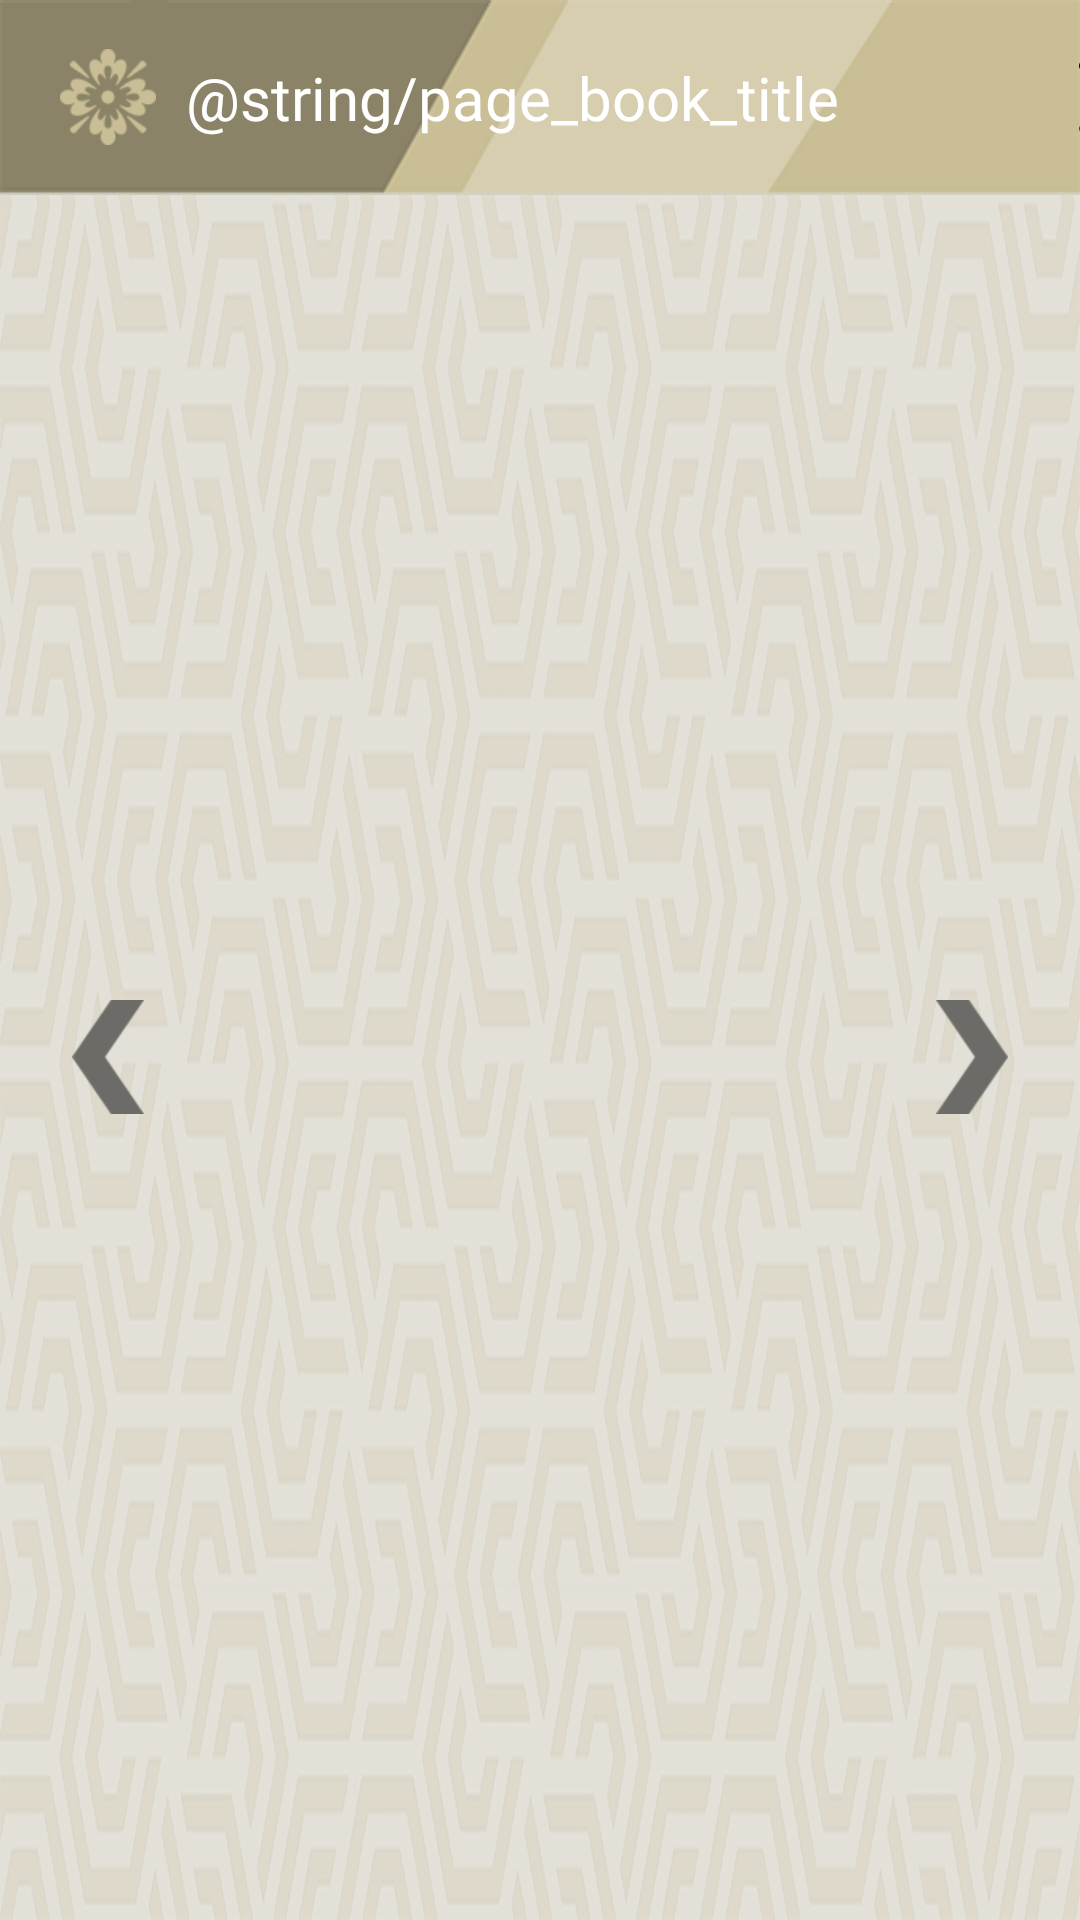

Point at icon controls on the screen. Image size 1080x1920, points as (x,y).
next: (972,1057)
prev: (108,1057)
